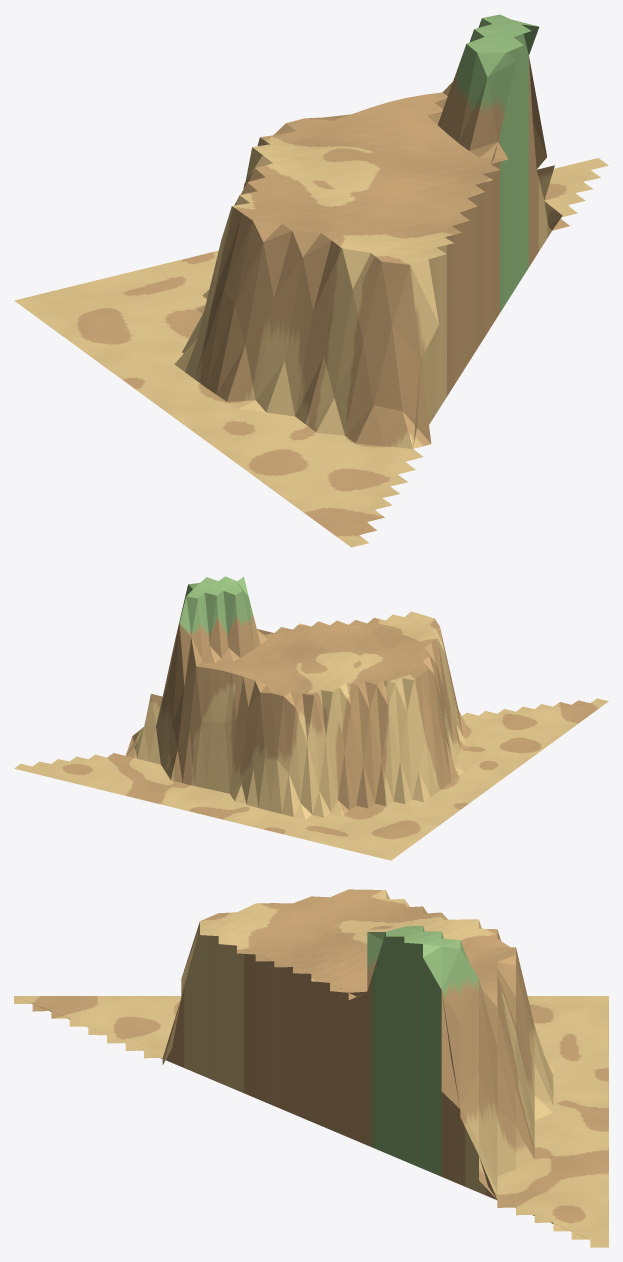
The model's file is Desert_Mountains_09_SW.obj.
The picture shows the model from 3 angles, top to bottom: view 1: azimuth 30°, elevation 25°; view 2: azimuth 150°, elevation 25°; view 3: azimuth 270°, elevation 25°; orthographic projection. The views are drawn at different scales.
Bounding box in the file's own units: 10 × 4.19 × 10.
Materials: 1 (1 with a texture image).
